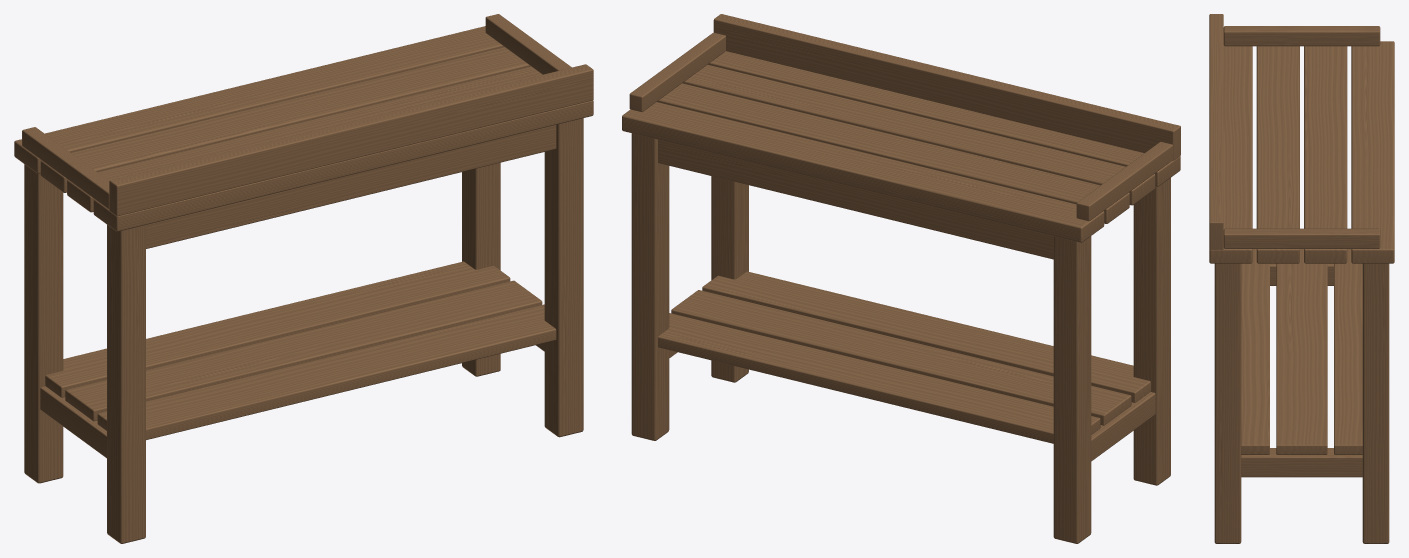
File: Shelf.fbx
3 renders of one model, left to right at view 1: azimuth 30°, elevation 25°; view 2: azimuth 150°, elevation 25°; view 3: azimuth 270°, elevation 25°, orthographic. The views are drawn at different scales.
Parts seen in each view (by area): view 1: Shelf; view 2: Shelf; view 3: Shelf.
Boxes of the visible parts, <box> form: Shelf: <box>14,14,593,543</box>; Shelf: <box>622,14,1180,543</box>; Shelf: <box>1209,14,1394,543</box>.
Bounding box in the file's own units: 120 × 87.25 × 45.
Materials: 1 (1 with a texture image).
